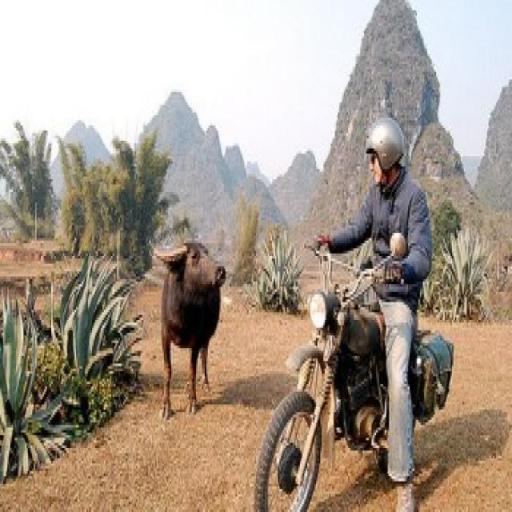Helmet: (366, 117, 404, 171)
Motor: (255, 250, 388, 511)
